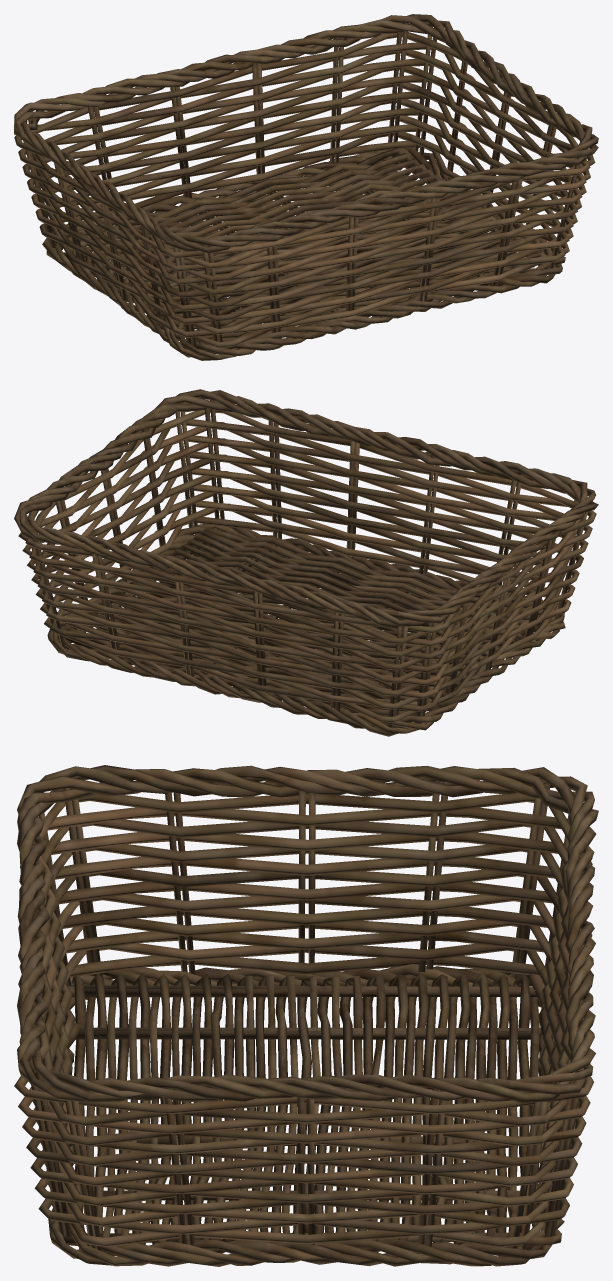
File: basket.glb
3 renders of one model, top to bottom at view 1: azimuth 30°, elevation 25°; view 2: azimuth 150°, elevation 25°; view 3: azimuth 270°, elevation 25°, orthographic. The views are drawn at different scales.
Parts seen in each view (by area): view 1: basket; view 2: basket; view 3: basket.
Boxes of the visible parts, x1,y1,x2,y2 form: basket: (14,14,598,360); basket: (14,389,598,736); basket: (14,765,598,1266).
Bounding box in the file's own units: 0.383 × 0.1175 × 0.2947.
1 material, 1 textured.
